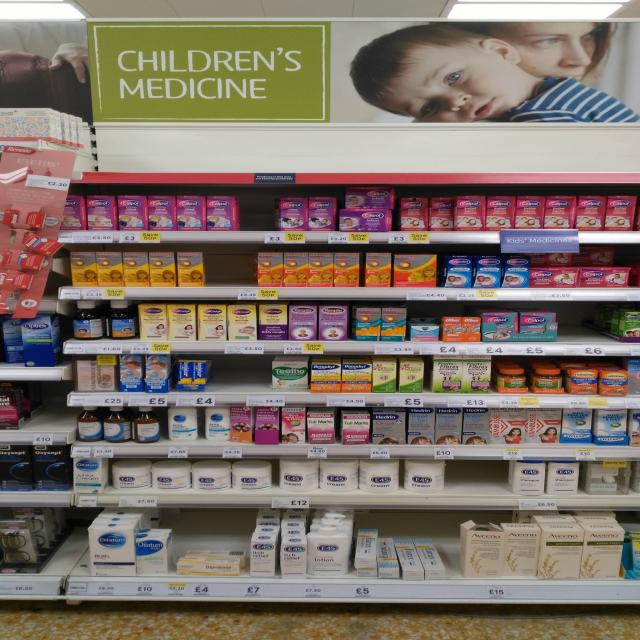100- O.O.S: (447, 460, 504, 508), (214, 357, 270, 405), (206, 248, 254, 298), (242, 189, 274, 241), (68, 508, 87, 593), (560, 306, 590, 355), (42, 384, 64, 445)
